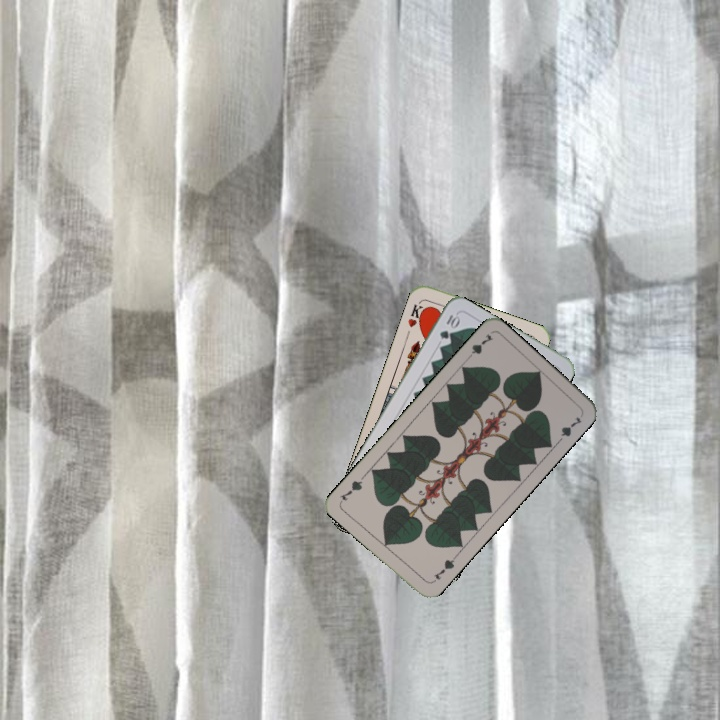G10: (435, 310, 462, 342)
G7: (462, 330, 496, 363), (428, 552, 459, 585)
HK: (404, 300, 429, 330)
